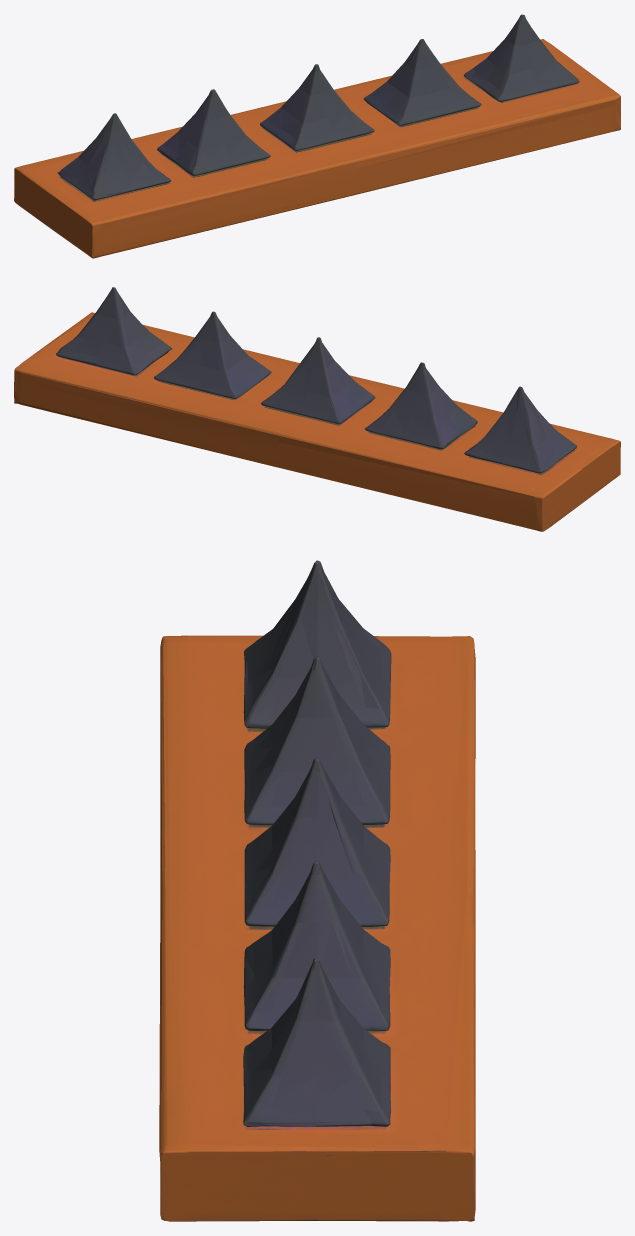
File: spikeStrip.glb
3 renders of one model, top to bottom at view 1: azimuth 30°, elevation 25°; view 2: azimuth 150°, elevation 25°; view 3: azimuth 270°, elevation 25°, orthographic. The views are drawn at different scales.
Bounding box in the file's own units: 2.7 × 0.5 × 0.7.
1 material, 1 textured.
